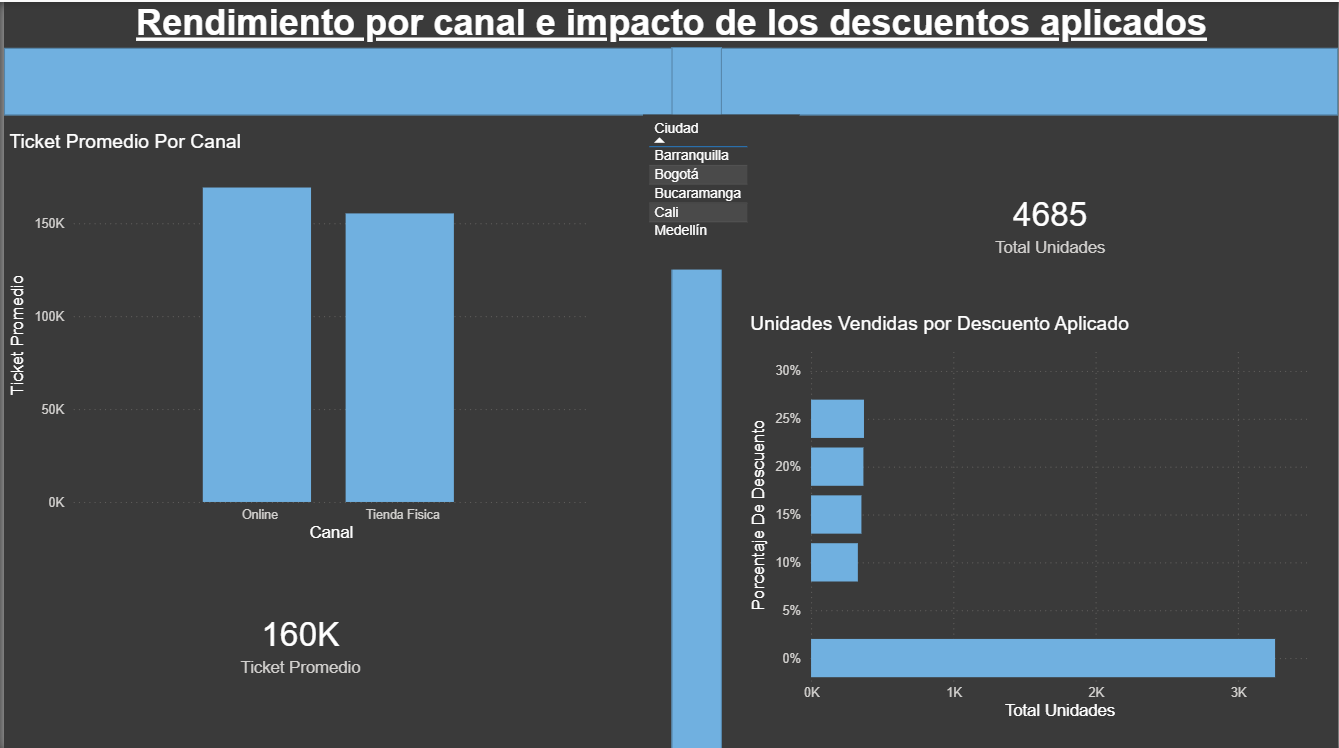

What the dashboard file says about the page in this screenshot:
{"tool":"powerbi","page":{"name":"Rendimiento por canal de compra","canvas":[1280,720],"ordinal":4},"visuals":[{"type":"columnChart","title":"Ticket Promedio Por Canal","fields":{"Category":["Hoja2.Canal"],"Y":["Hoja2.Ticket Promedio"]},"box":[0,123.3,565,398.3],"z":0},{"type":"shape","title":"Rendimiento por canal e impacto de los descuentos aplicados","box":[0,0,1280,108.3],"z":1000},{"type":"barChart","title":"Unidades Vendidas por Descuento Aplicado","fields":{"Category":["Hoja2.Descuento_Pct"],"Y":["Hoja2.Total Unidades"]},"box":[710,298.3,553.3,395],"z":2000},{"type":"card","fields":{"Values":["Hoja2.Total Unidades"]},"box":[843.3,123.3,320,175],"z":3000},{"type":"card","fields":{"Values":["Hoja2.Ticket Promedio"]},"box":[1.7,555,565,118.3],"z":4000},{"type":"shape","box":[640,43.3,48.3,676.7],"z":5000},{"type":"tableEx","fields":{"Values":["Hoja2.Ciudad"]},"box":[613.3,108.3,150,148.3],"z":6000}]}

Visuals, with their boxes in screenshot pixels (x1, y1, x2, y2), scaled from the page's 1280x720 canvas onto the 1339x748 screenshot:
"Ticket Promedio Por Canal" columnChart: detection(0, 128, 591, 542)
"Rendimiento por canal e impacto de los descuentos aplicados" shape: detection(0, 0, 1338, 113)
"Unidades Vendidas por Descuento Aplicado" barChart: detection(743, 310, 1322, 720)
card - Hoja2.Total Unidades: detection(882, 128, 1217, 310)
card - Hoja2.Ticket Promedio: detection(2, 577, 593, 699)
shape: detection(670, 45, 720, 747)
tableEx - Hoja2.Ciudad: detection(642, 113, 798, 267)
